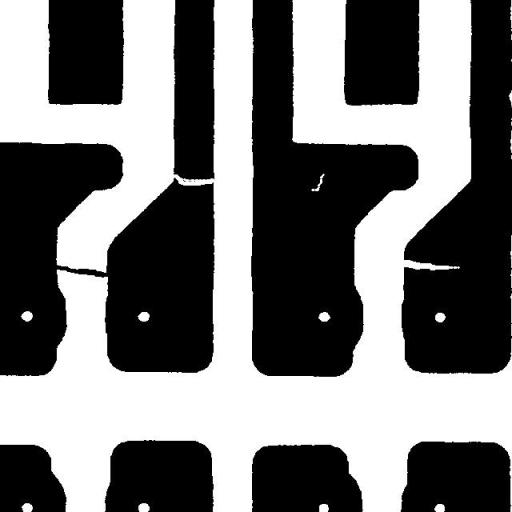mousebite: (393, 252, 467, 278)
open: (162, 166, 222, 192)
pin-hole: (303, 166, 332, 198)
short: (46, 257, 122, 285)
